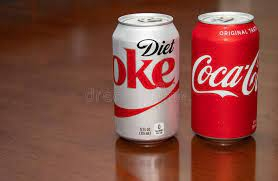can: (109, 11, 183, 146), (191, 10, 258, 142)
